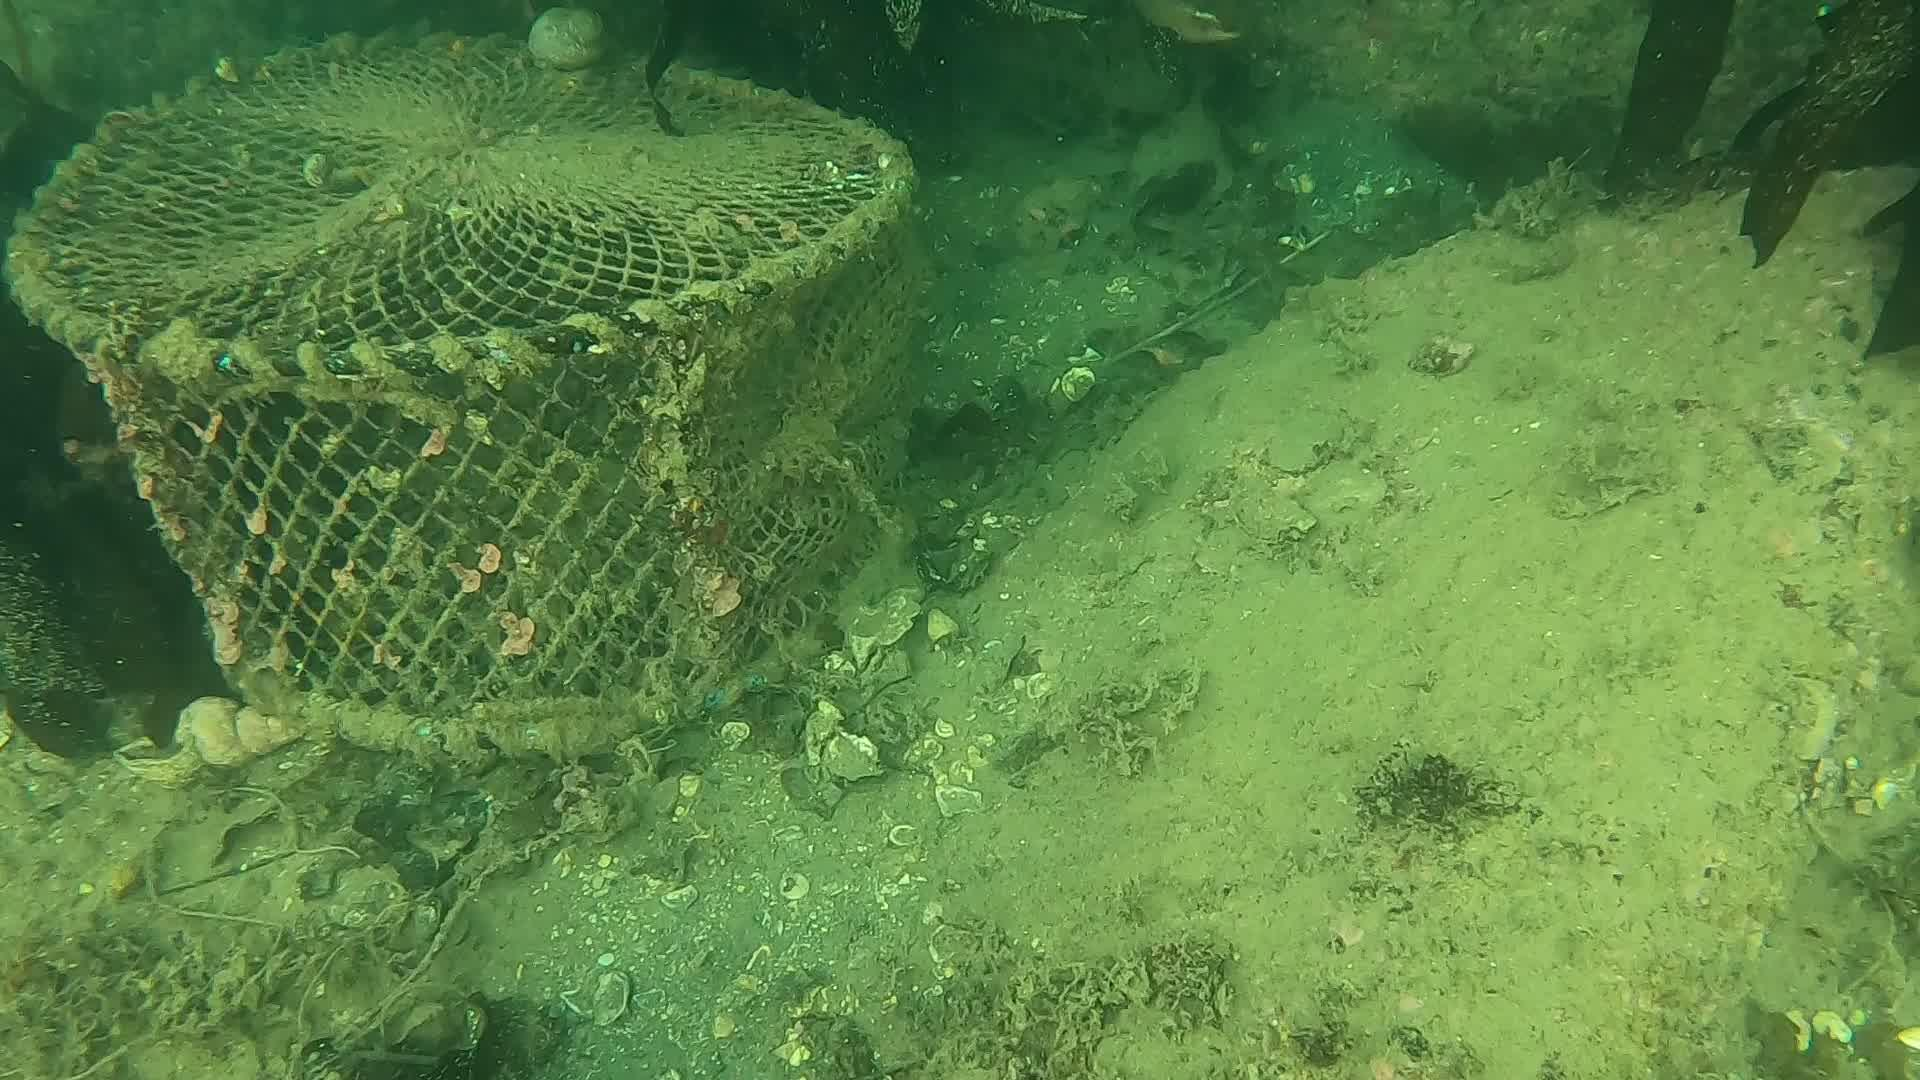circular fish trap: (0, 21, 923, 764)
